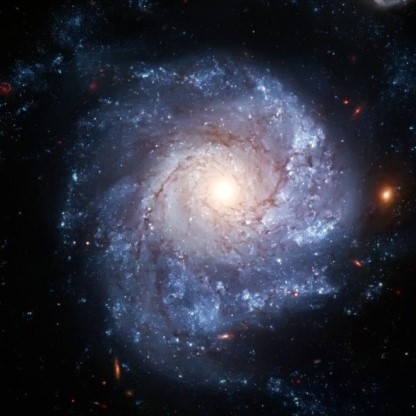NGC 1309: (45, 37, 400, 392)
